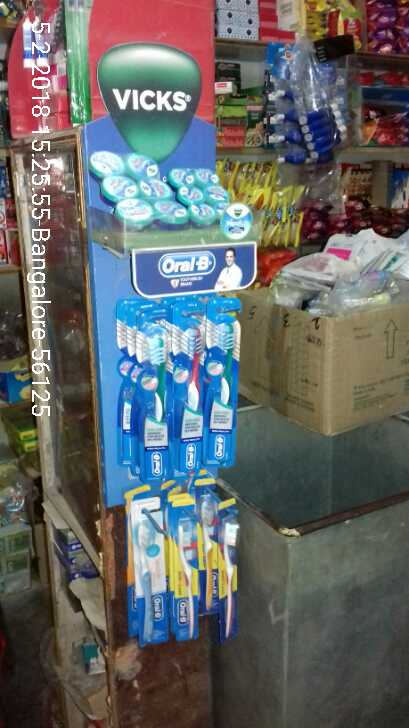oralb: (135, 304, 173, 485), (130, 496, 171, 645), (206, 295, 240, 467), (172, 299, 205, 471), (169, 499, 201, 641), (217, 497, 240, 637)
